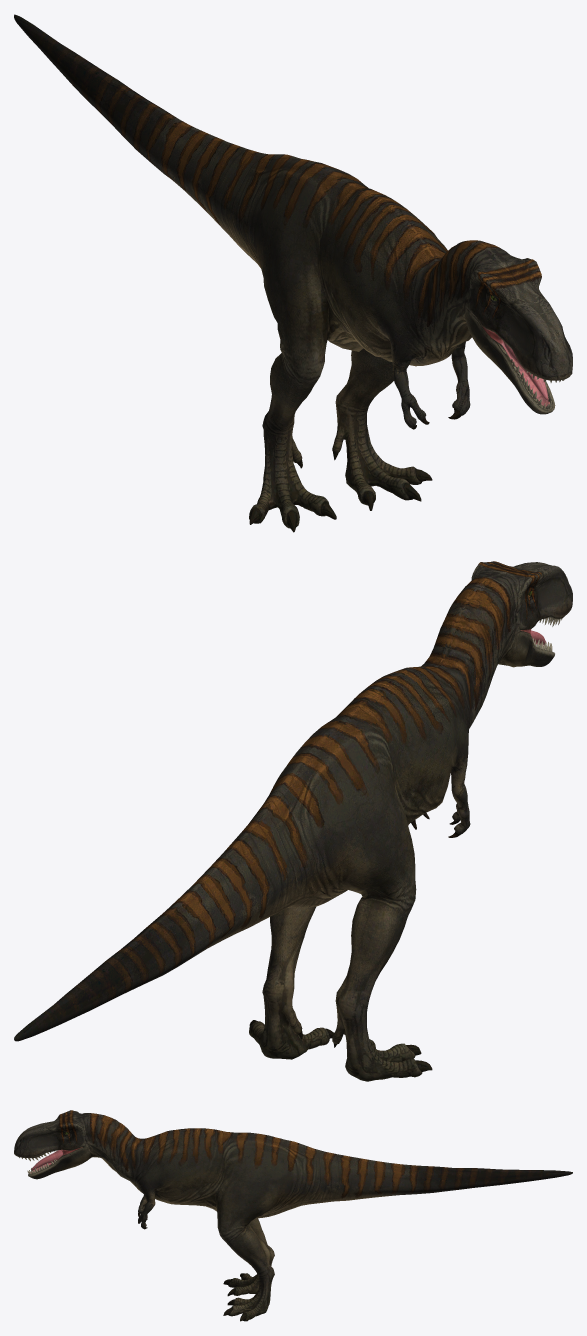
Rendered from albertosaurus.gltf.
3 renders of one model, top to bottom at view 1: azimuth 30°, elevation 25°; view 2: azimuth 150°, elevation 25°; view 3: azimuth 270°, elevation 25°, orthographic. The views are drawn at different scales.
Visible parts, largest first — view 1: Object_2; view 2: Object_2; view 3: Object_2.
Part boxes in pixels (<box>): Object_2: <box>14,14,572,532</box>; Object_2: <box>14,561,572,1081</box>; Object_2: <box>14,1110,572,1321</box>.
Bounding box in the file's own units: 25.1 × 48.47 × 131.
Materials: 1 (1 with a texture image).
